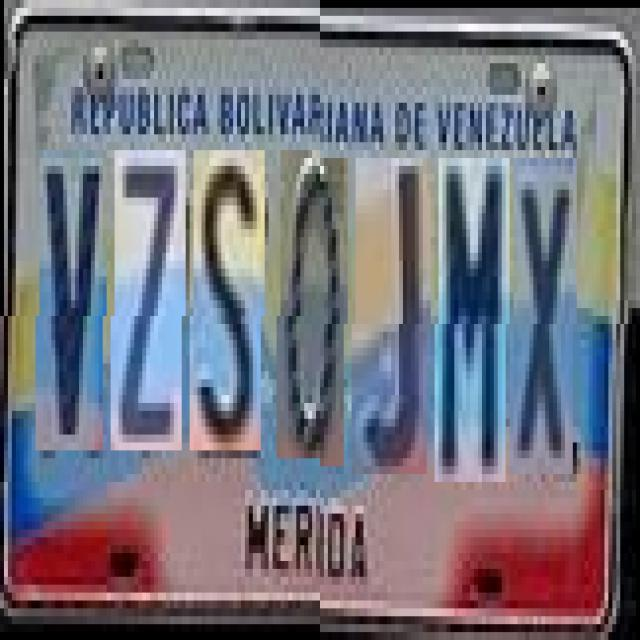J: (356, 158, 430, 474)
M: (438, 158, 509, 482)
O: (280, 158, 348, 466)
S: (193, 158, 264, 458)
V: (40, 158, 106, 458)
X: (514, 158, 576, 474)
Z: (114, 158, 186, 458)
